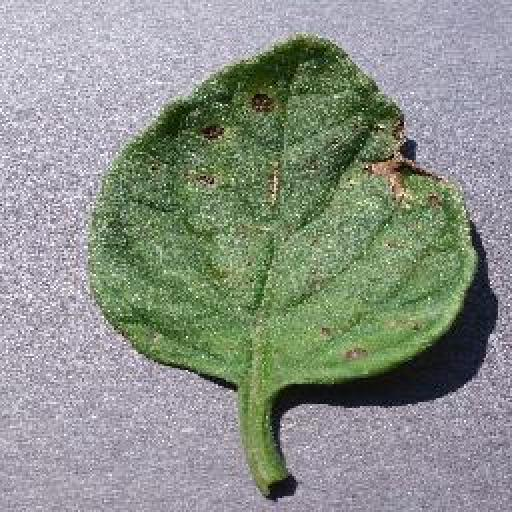Septoria: (86, 35, 482, 385)
